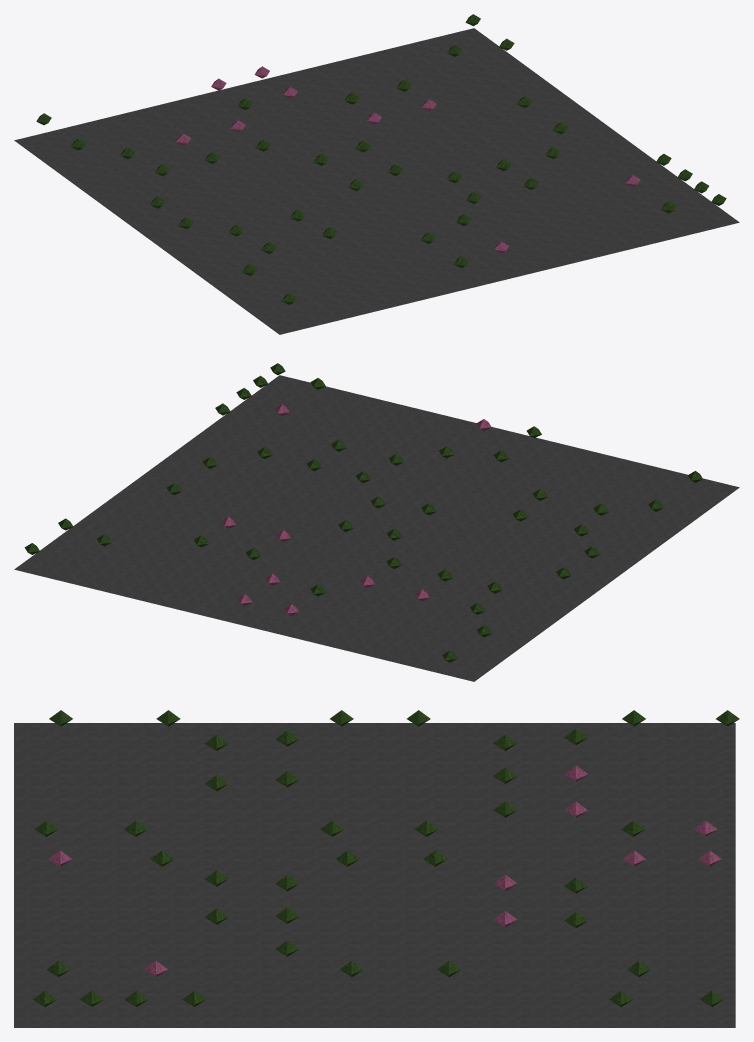
The model's file is cidade_S03_04_lod.gltf.
3 views of the same model, one above another, from view 1: azimuth 30°, elevation 25°; view 2: azimuth 150°, elevation 25°; view 3: azimuth 270°, elevation 25° (orthographic). The views are drawn at different scales.
Parts seen in each view (by area): view 1: S03_04_Chao_LOD2, S03_04_Vegetacao_LOD2; view 2: S03_04_Chao_LOD2, S03_04_Vegetacao_LOD2; view 3: S03_04_Chao_LOD2, S03_04_Vegetacao_LOD2.
Part boxes in pixels (bbox=[...]): S03_04_Chao_LOD2: bbox=[14, 28, 739, 334]; S03_04_Vegetacao_LOD2: bbox=[36, 14, 726, 304]; S03_04_Chao_LOD2: bbox=[14, 375, 739, 681]; S03_04_Vegetacao_LOD2: bbox=[24, 363, 702, 662]; S03_04_Chao_LOD2: bbox=[14, 723, 735, 1027]; S03_04_Vegetacao_LOD2: bbox=[33, 710, 739, 1007].
Bounding box in the file's own units: 100 × 4.73 × 101.
Materials: 3 (3 with a texture image).
